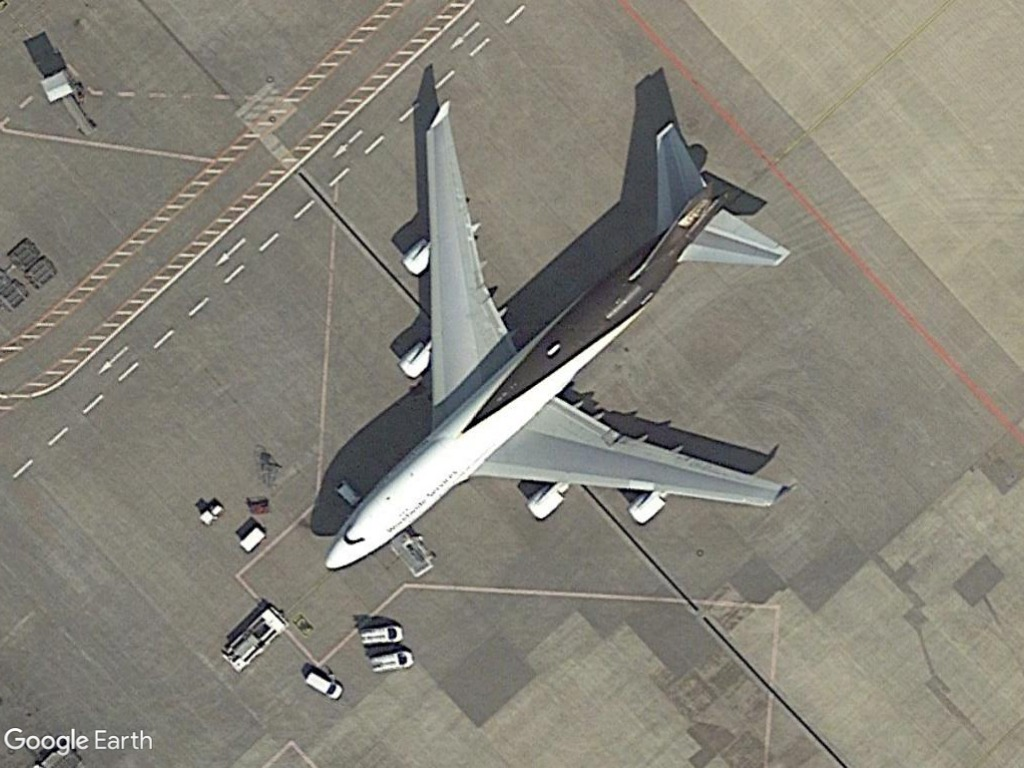airliner: (318, 94, 795, 577)
pushbacktruck: (219, 602, 294, 674)
van: (300, 667, 346, 704), (369, 644, 420, 672), (354, 621, 406, 646)
